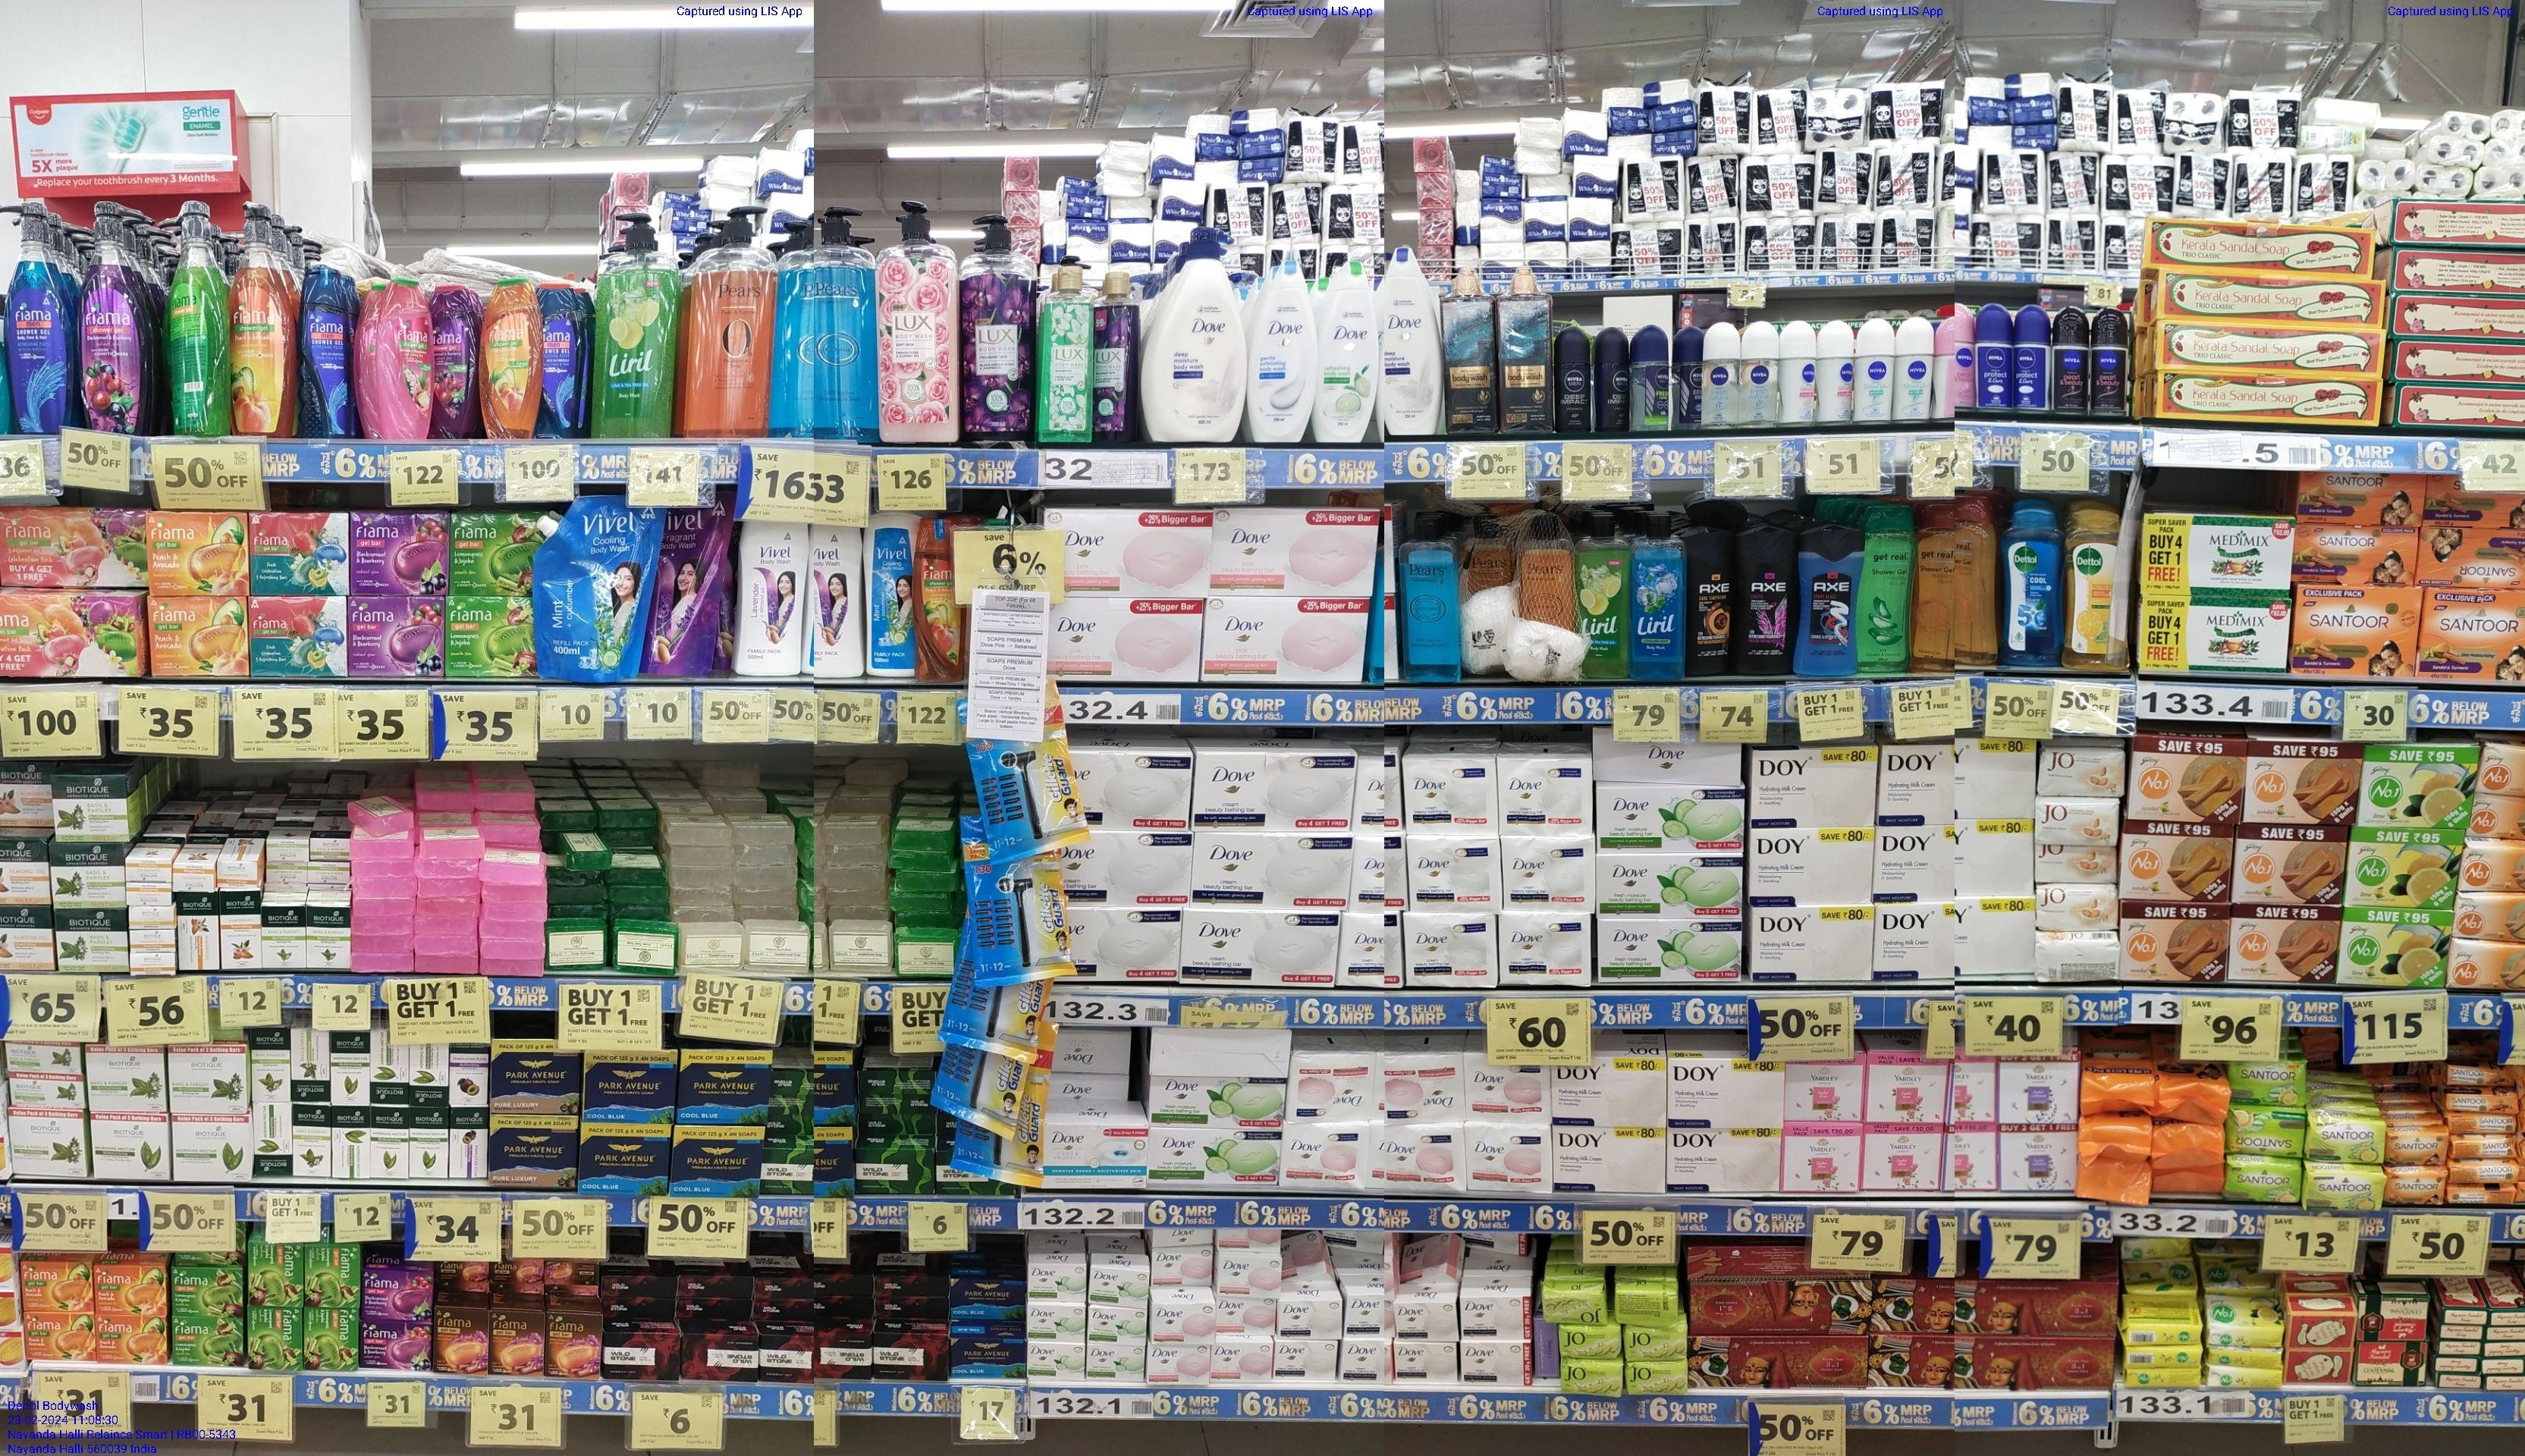Dettol_Bodywash_Cool: (2001, 515, 2065, 666)
Dettol_Bodywash_Refresh: (2065, 513, 2121, 669)
Dove_Deep_Moisture_Body_Wash_250ML: (1382, 250, 1443, 437)
Dove_Gentle_Exfoliating_Body_Wash_250ML: (1252, 262, 1318, 442)
Dove_Refreshing_Body_Wash_250ML: (1321, 263, 1380, 440)
Fiama_Shower_Gel_Patchouli_and_Macadamia_250ML: (373, 279, 434, 437)
Fiama_Shower_Gel_Peach_and_Avocado_250ML: (482, 283, 539, 439)
Get_Real_Shower_Gel_Moisturising_Glycerin_300ML: (1916, 511, 1977, 669)
Liril_Cooling_Mint_Body_Wash_250ML: (1634, 517, 1686, 681)
Liril_Lime_and_Tea_Tree_Oil_Body_Wash_250ML: (1575, 522, 1630, 679)
Lux_Black_Orchid_Scent_and_Juniper_Oil_Body_Wash_245ML: (1096, 274, 1141, 445)
Lux_Body_Wash_Skin_Detox_Freesia_Scent_and_Alove_Vera_245ML: (1042, 269, 1094, 442)
Pears_Pure_Glycerin_and_Mint_Extracts_Body_Wash_250ML: (1396, 511, 1462, 683)
